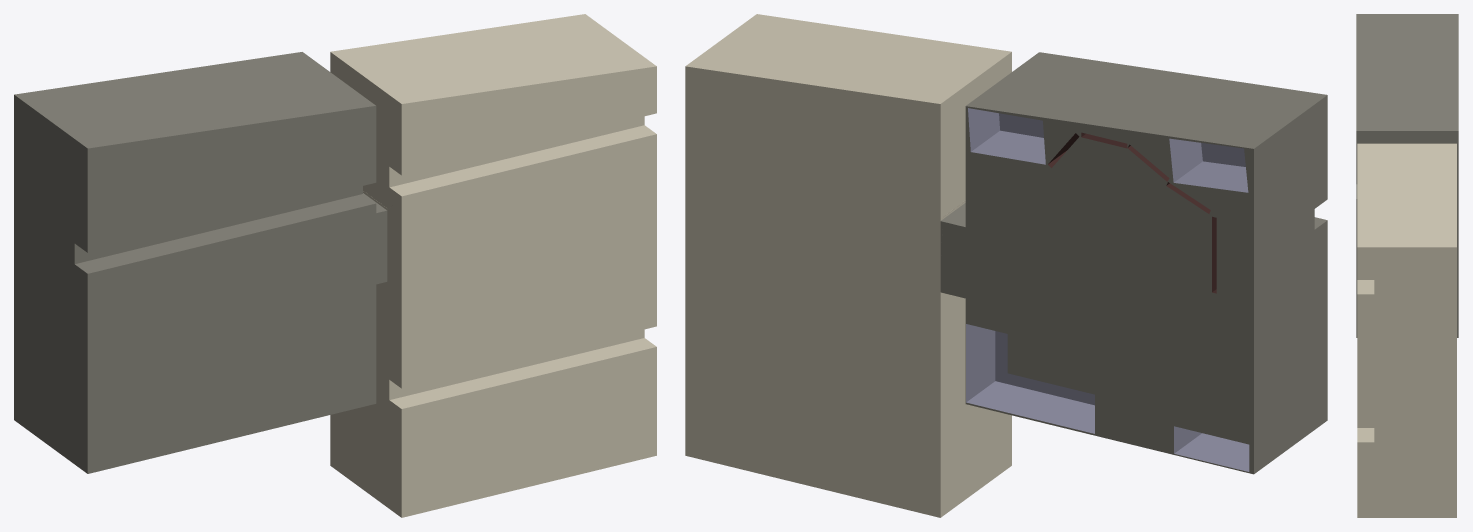
Rendered from CR1_DoorAngle1.obj.
3 renders of one model, left to right at view 1: azimuth 30°, elevation 25°; view 2: azimuth 150°, elevation 25°; view 3: azimuth 270°, elevation 25°, orthographic. The views are drawn at different scales.
Parts seen in each view (by area): view 1: obj29, obj20, obj12, obj23, obj24, obj30, obj32, obj16, obj85, obj26, obj84, obj15 (+6 smaller); view 2: obj88, obj21, obj24, obj30, obj32, obj85, obj84, obj55, obj25, obj54, obj38, obj44 (+7 smaller); view 3: obj33, obj30, obj32, obj31, obj15, obj19.
Boxes of the visible parts, box(x1,y1,x2,y2) form: obj29: box(87, 203, 376, 473); obj20: box(401, 134, 656, 388); obj12: box(401, 347, 656, 517); obj23: box(87, 106, 376, 252); obj24: box(14, 95, 87, 473); obj30: box(14, 52, 375, 148); obj32: box(330, 14, 656, 103); obj16: box(401, 66, 656, 175); obj85: box(330, 197, 401, 517); obj26: box(75, 194, 375, 273); obj84: box(330, 52, 401, 210); obj15: box(390, 125, 656, 196); obj88: box(685, 66, 940, 517); obj21: box(965, 106, 1253, 474); obj24: box(1254, 95, 1327, 473); obj30: box(966, 52, 1326, 148); obj32: box(686, 14, 1011, 103); obj85: box(940, 292, 1011, 517); obj84: box(940, 52, 1011, 220); obj55: box(966, 381, 1094, 433); obj25: box(1254, 314, 1307, 403); obj54: box(966, 324, 995, 402); obj38: box(940, 221, 965, 298); obj44: box(1174, 433, 1249, 471); obj33: box(1357, 247, 1456, 517); obj30: box(1356, 14, 1458, 130); obj32: box(1357, 143, 1456, 247); obj31: box(1356, 131, 1458, 337); obj15: box(1357, 280, 1374, 294); obj19: box(1357, 428, 1374, 442).
Size of what is drawn, in the model's own units: 486 by 364 by 109.
